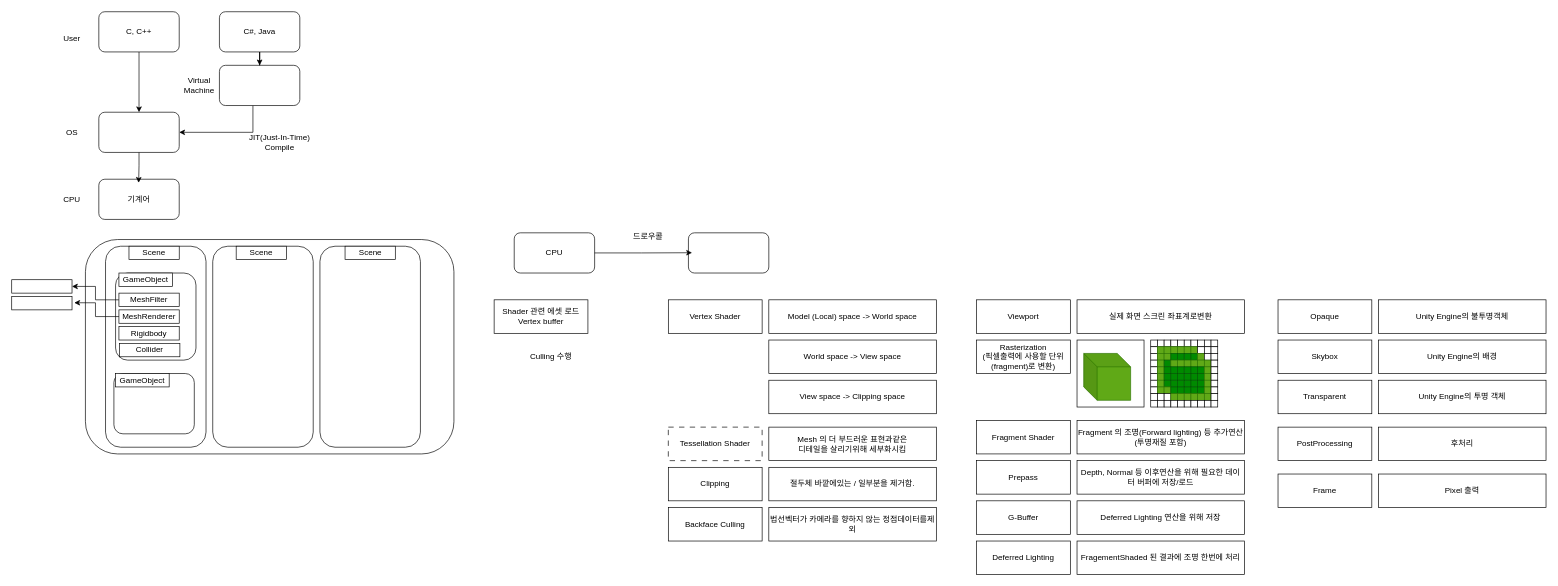
This 1558x586 diagram has some shape labels left out. Here are the shapes that lost their labels. From the top down, the box of each, then its label:
(219, 65, 300, 106): IL (Intermediate Language)
(98, 112, 179, 152): 어셈블리어
(688, 232, 769, 273): GPU
(11, 279, 72, 293): Mesh
(11, 296, 72, 310): Material
